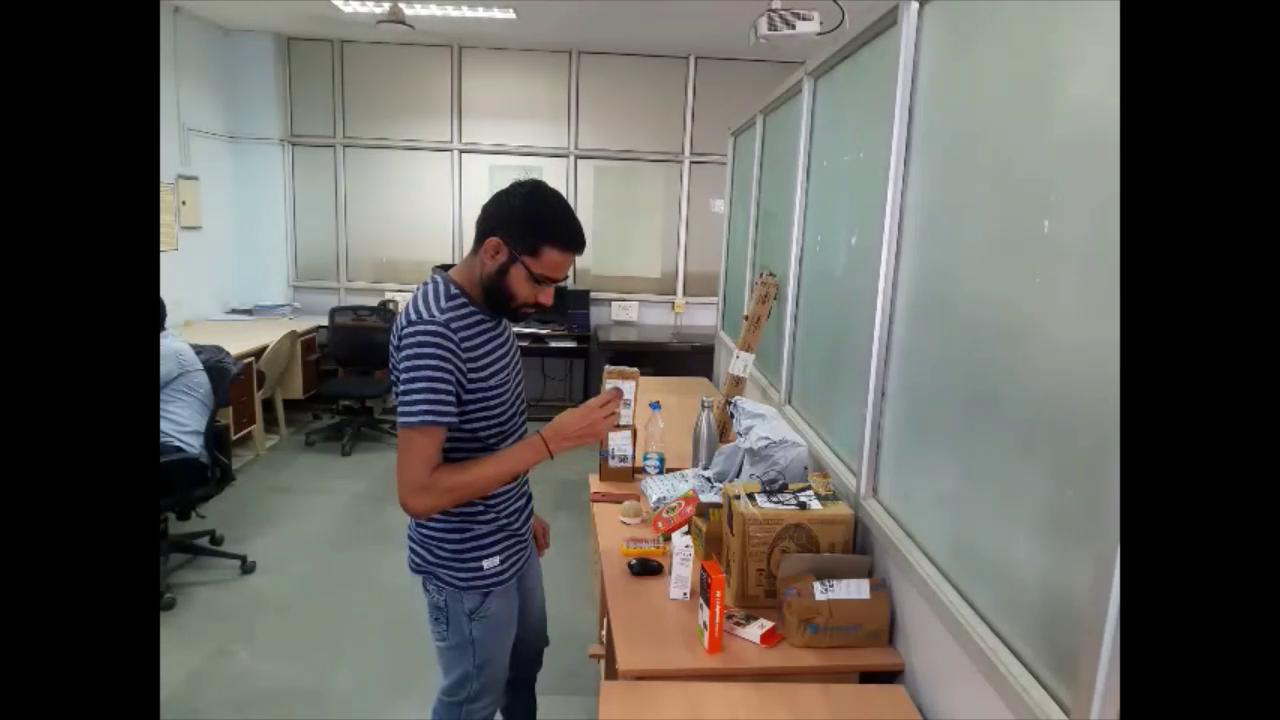Normal: (372, 163, 643, 720)
